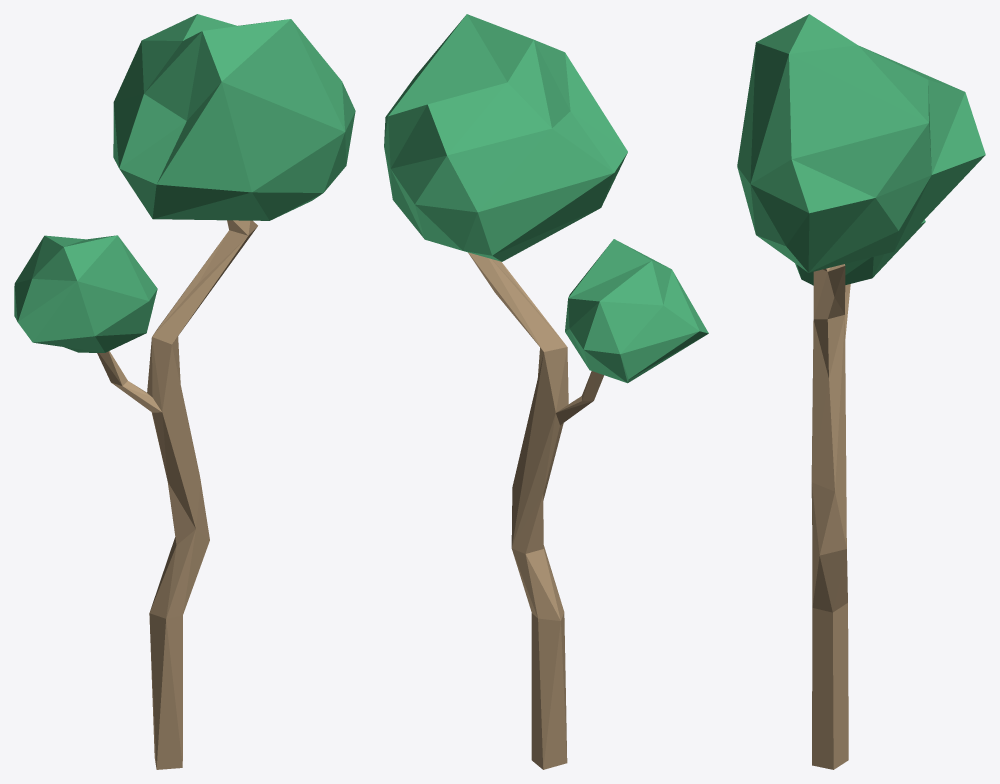
File: tree48.fbx
The picture shows the model from 3 angles, left to right: view 1: azimuth 30°, elevation 25°; view 2: azimuth 150°, elevation 25°; view 3: azimuth 270°, elevation 25°; orthographic projection. The views are drawn at different scales.
Visible parts, largest first — view 1: treetype48; view 2: treetype48; view 3: treetype48.
Part boxes in pixels (x1=…): treetype48: x1=14, y1=14, x2=355, y2=769; treetype48: x1=384, y1=14, x2=708, y2=769; treetype48: x1=737, y1=14, x2=985, y2=769.
Bounding box in the file's own units: 111 × 234 × 69.44.
